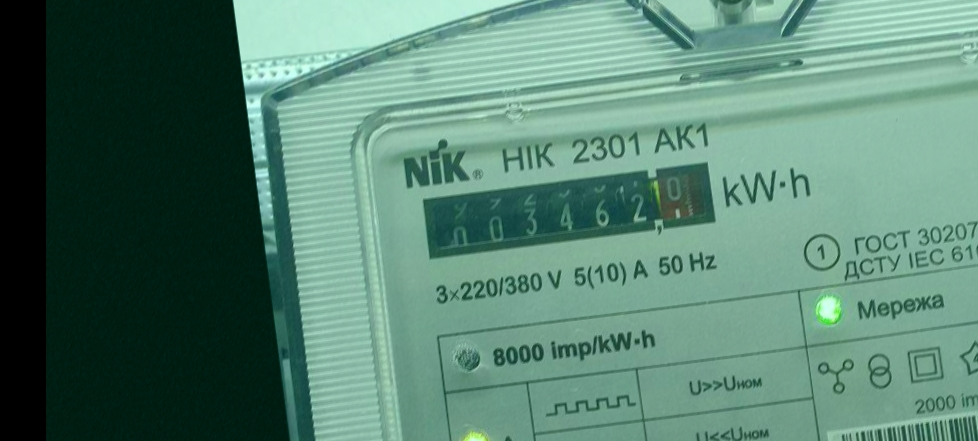0: (486, 211, 508, 242), (665, 173, 685, 203), (449, 222, 471, 247)
2: (629, 190, 651, 224)
3: (521, 205, 543, 239)
4: (557, 199, 578, 233)
6: (591, 194, 615, 231)
9: (449, 199, 472, 221)
screen: (409, 148, 730, 278)
